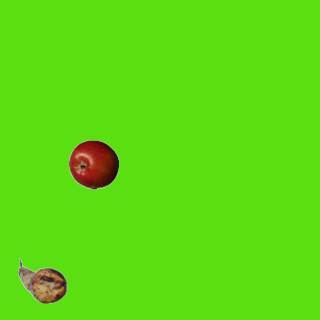Apple Braeburn: (68, 139, 118, 189)
Pear Abate: (17, 256, 67, 306)
